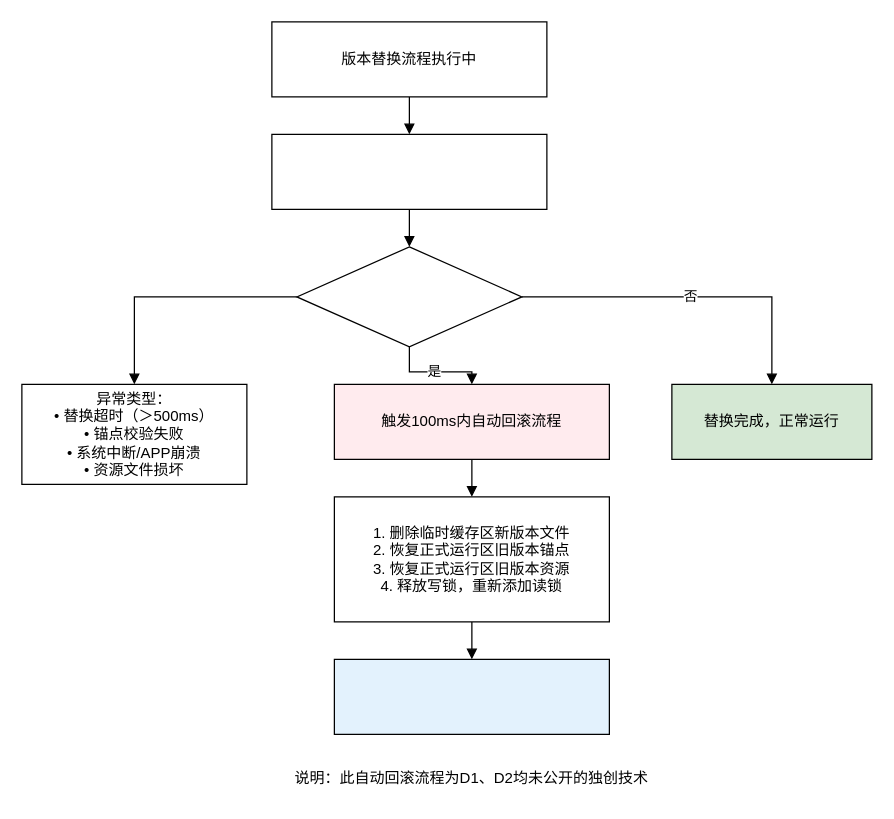
The diagram is 894 pixels wide and 819 high, and some of its shapes have lost their labels. The shapes that lost their labels are listed below. From the top down, each one's centre as x and y in pixels, then its label:
point (409, 171): 故障自回滚模块全流程实时监控（D1、D2未公开独创模块）
point (409, 296): 是否捕捉到替换异常？
point (471, 696): 微应用恢复正常可用状态，全程无用户感知
